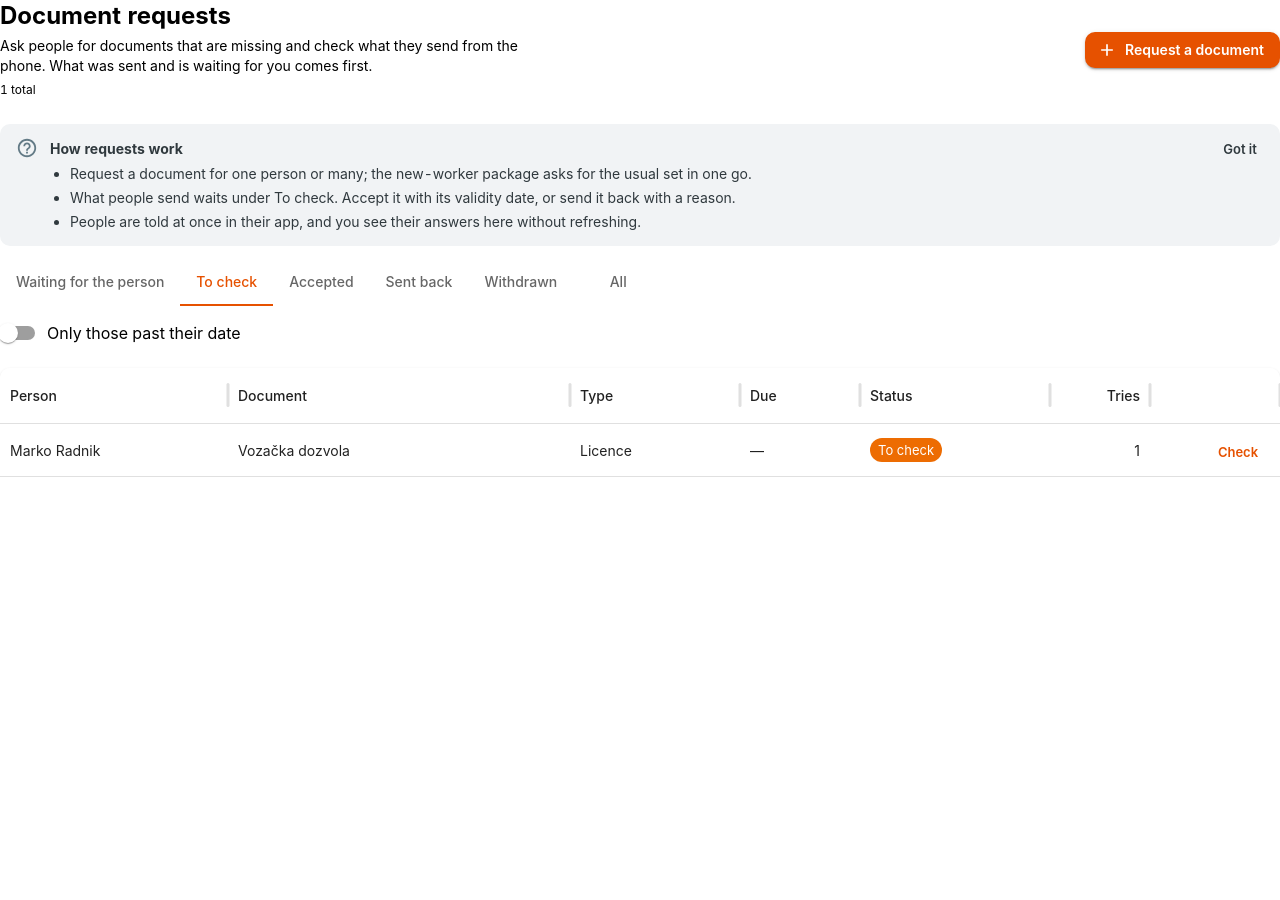
it: document requests › lists what is waiting to be checked and opens it
Expected: the text "Marko Radnik" is shown, 10,442 -> 100,459
Expected: the text "Vozačka dozvola" is shown, 238,442 -> 350,459
Click the button "Check". click: click(1238, 452)
box: 1206,437 -> 1270,468
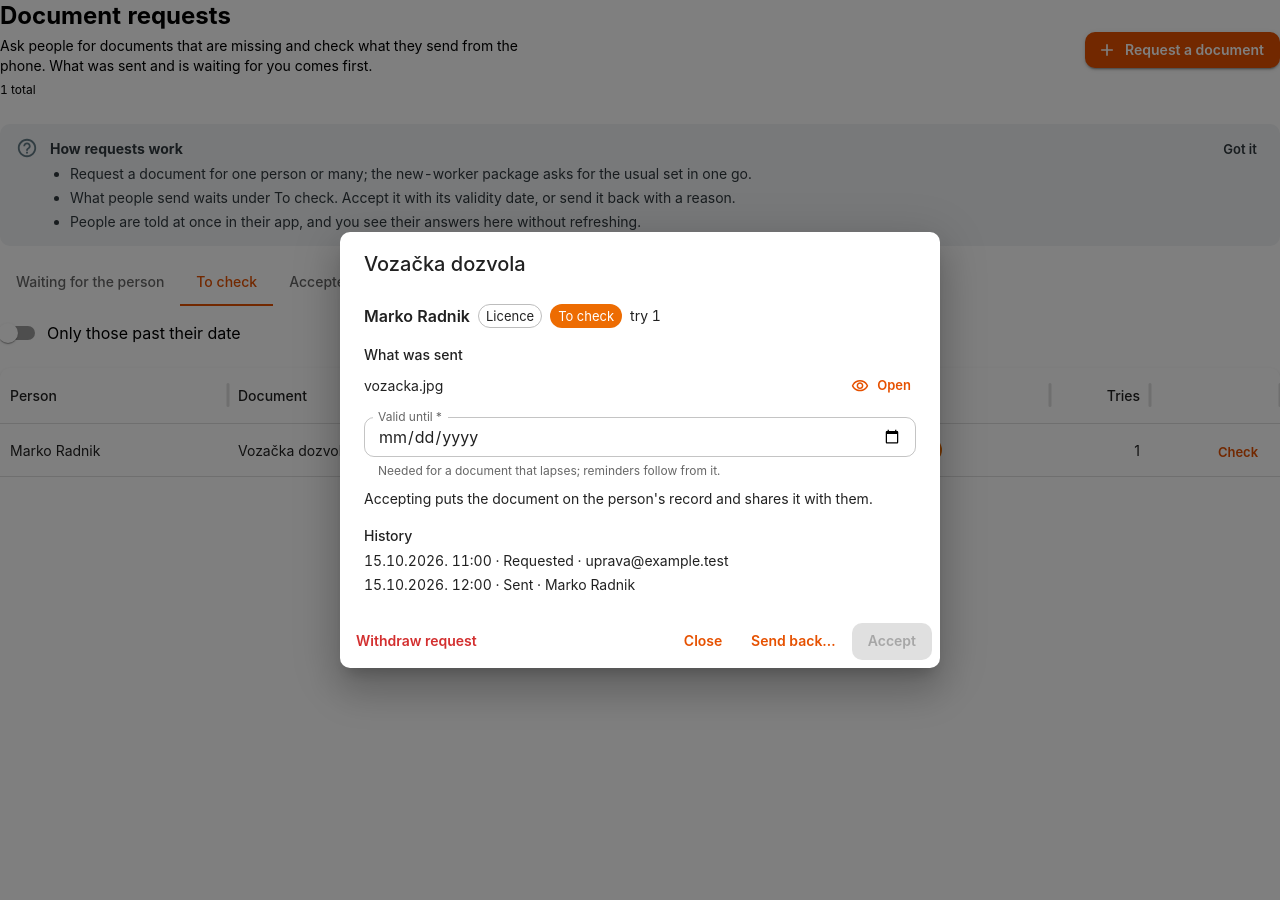
Now the text "vozacka.jpg" is shown, box 364,377 -> 443,394
